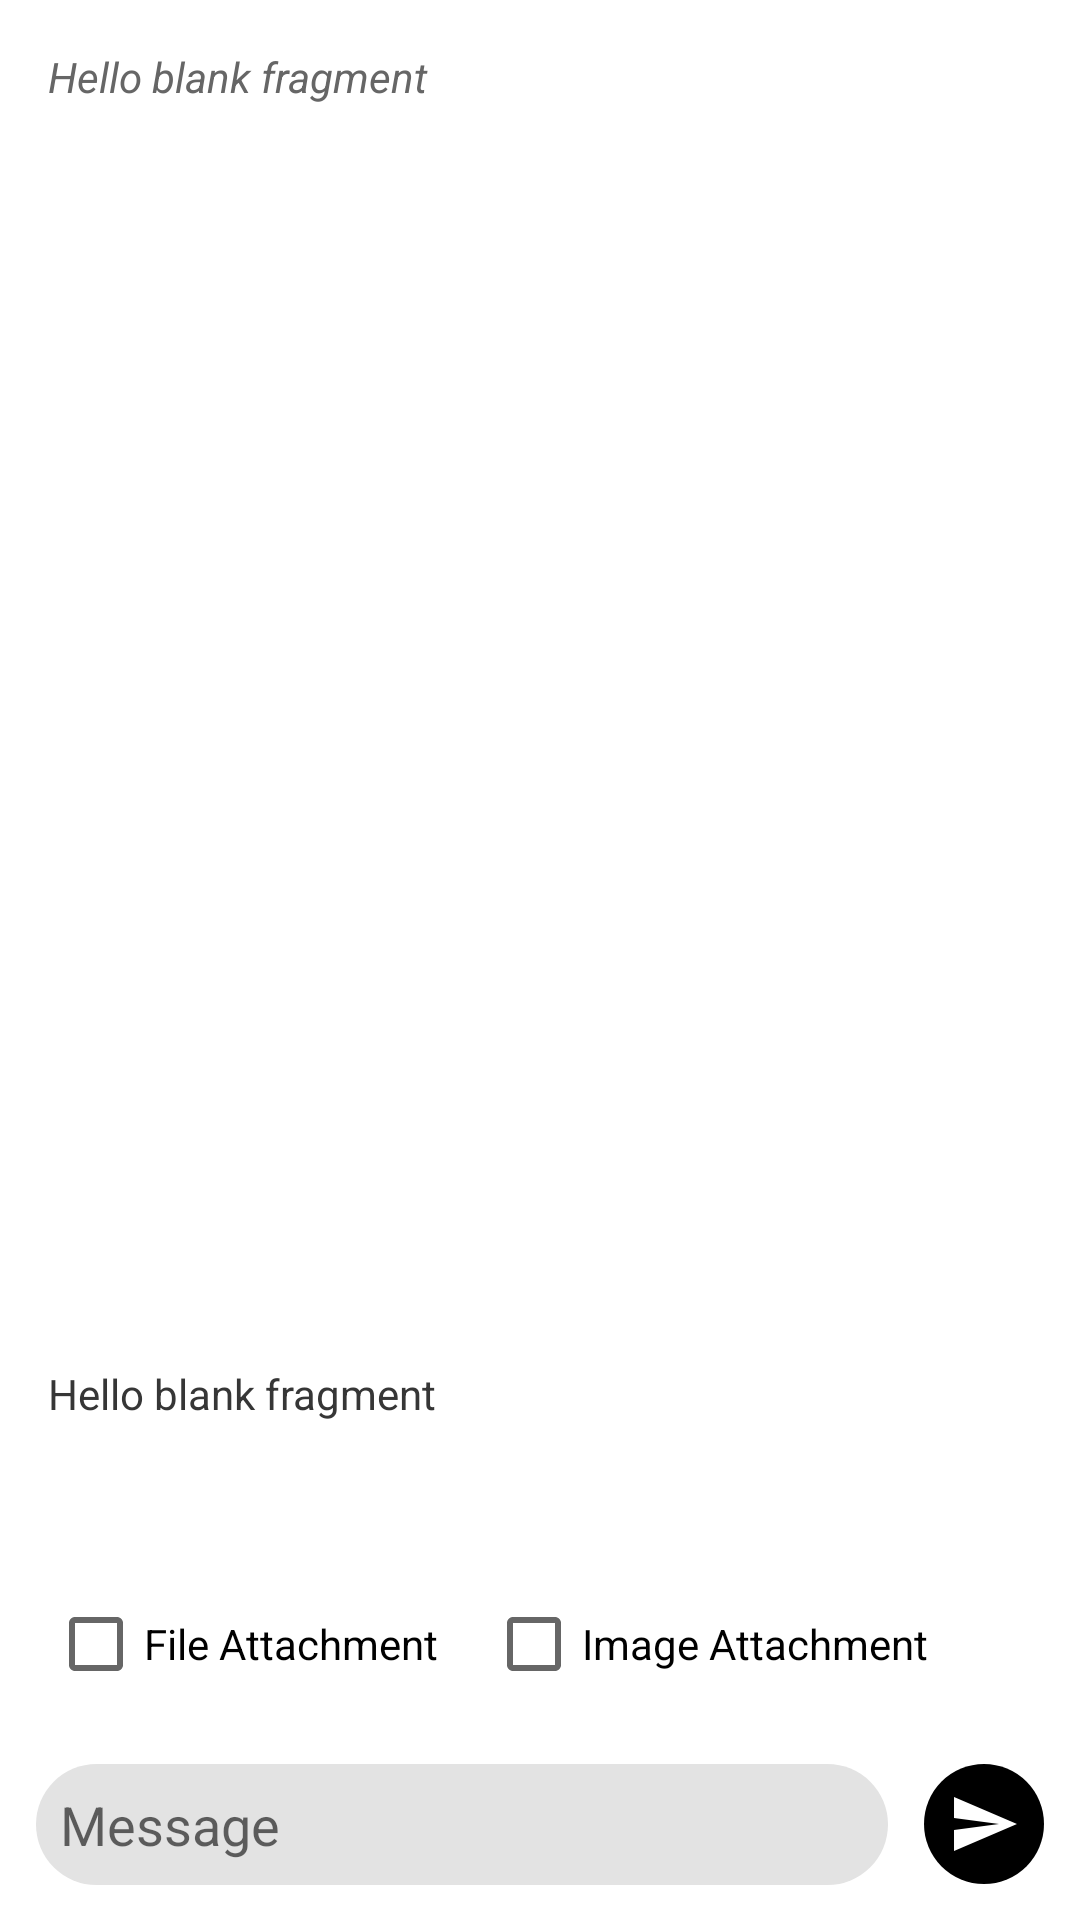

Where icons sit on this 1080*1920 app screen, as (x1, y1, x2, y2):
Send: (924, 1764, 1044, 1884)
